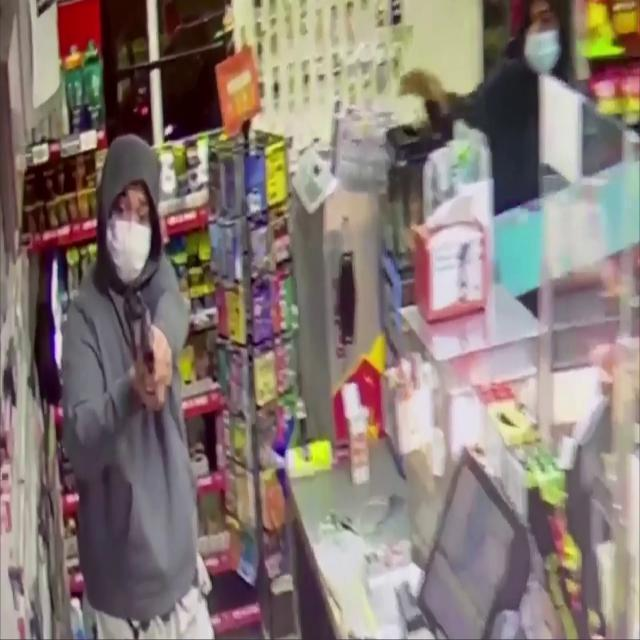gun: (138, 306, 156, 396)
